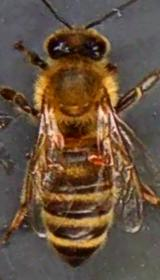varroa_mite: (86, 144, 114, 166)
